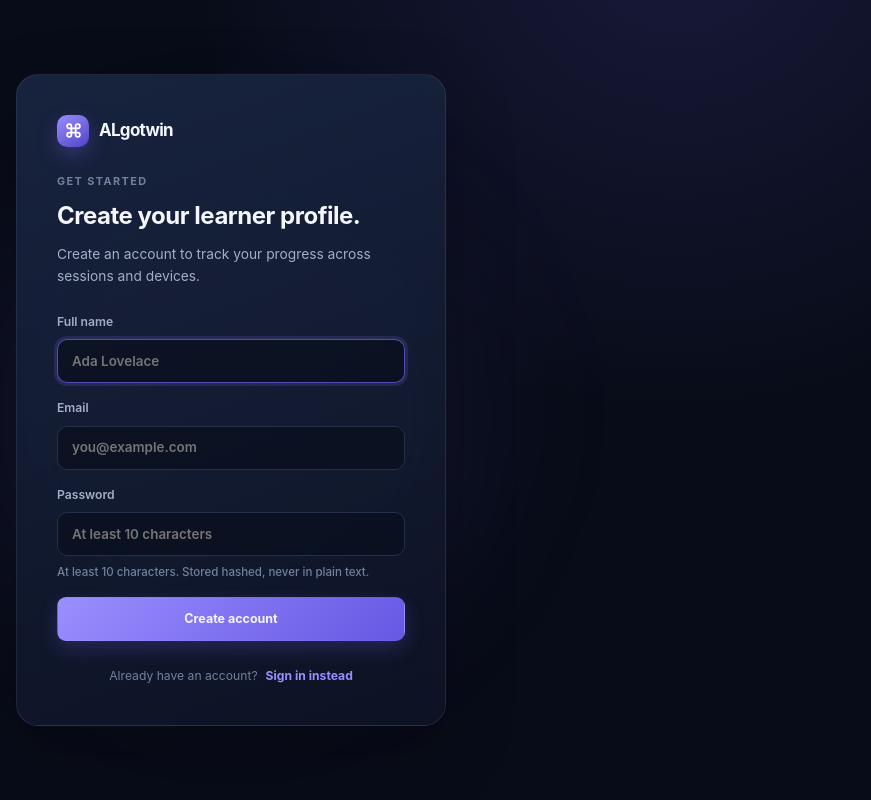
Test: RegisterPage › surfaces a duplicate-email rejection from the API
Step 1. Type "Grace Hopper" into the field labelled "Full name" → (231, 361), box [57,339,405,383]
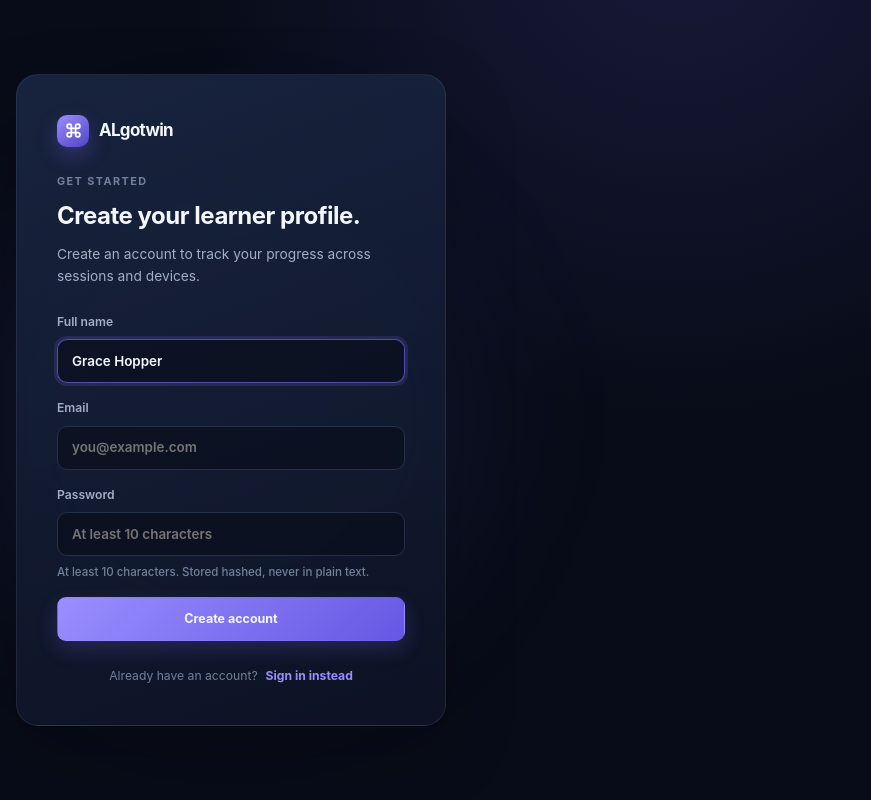
Step 2. Type "grace@example.com" into the field labelled "Email" → (231, 448), box [57,426,405,470]
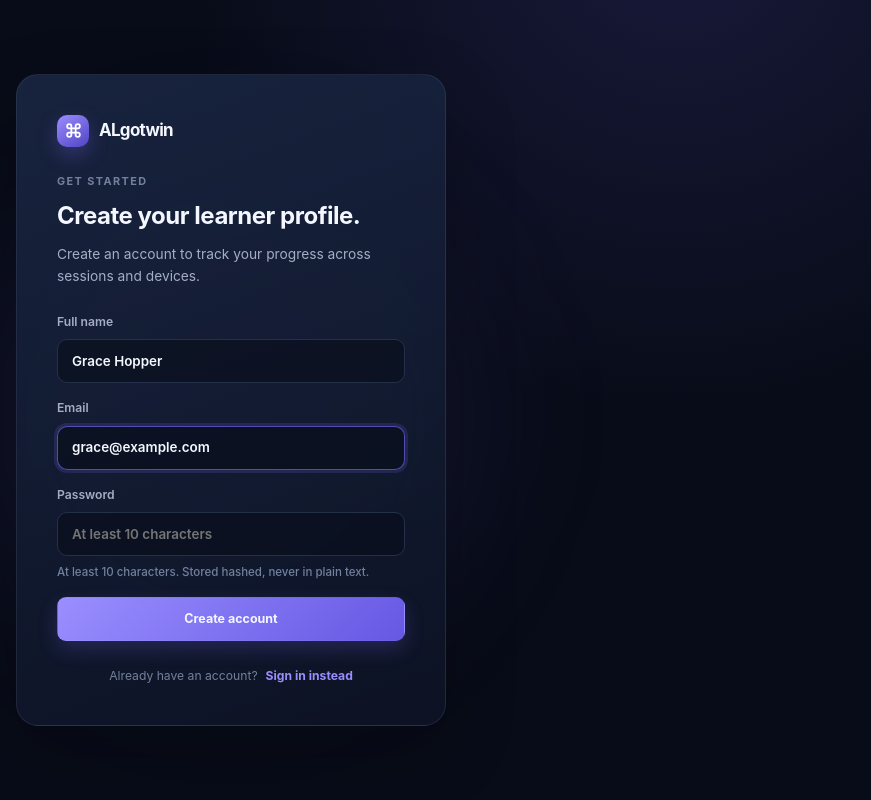
Step 3. Type "correct-horse-battery-staple" into the password field labelled "Password" → (231, 534), box [57,512,405,556]
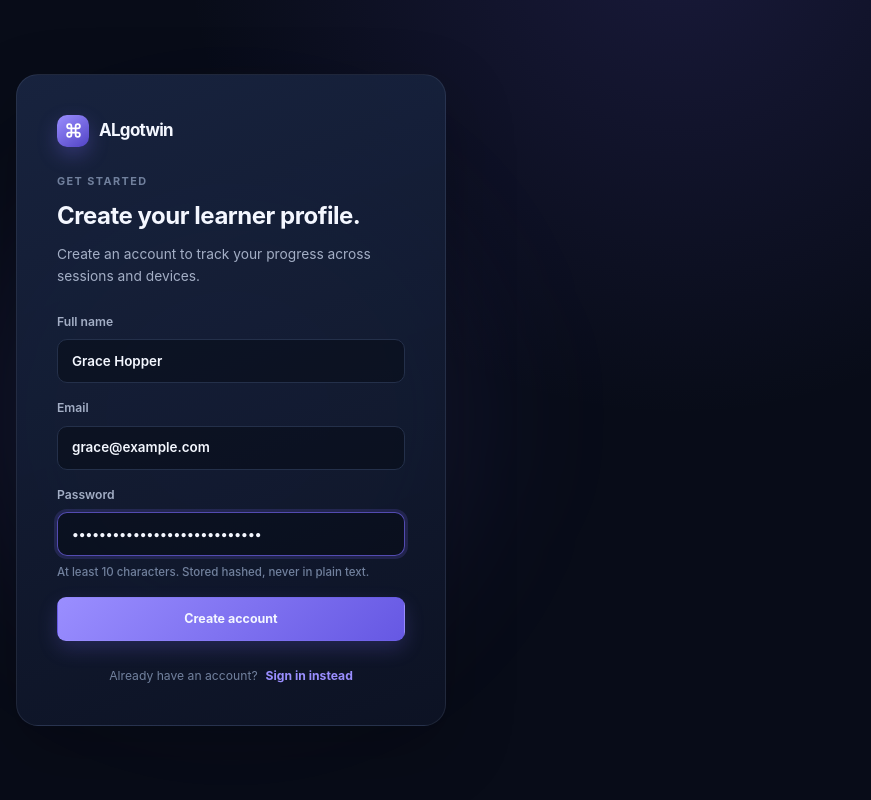
Step 4. Click the button "Create account" → (231, 619), box [57,597,405,641]
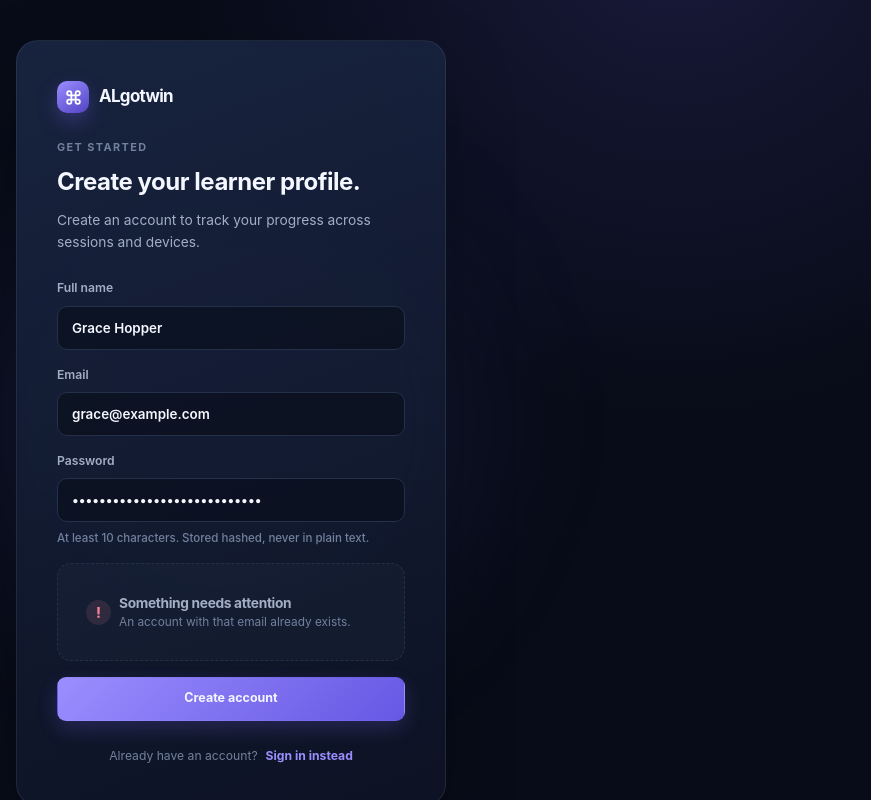
Expected: the heading "Create your learner profile." is shown, [57,164,405,200]
Expected: the text "An account with that email already exists." is shown, [119,614,351,632]
